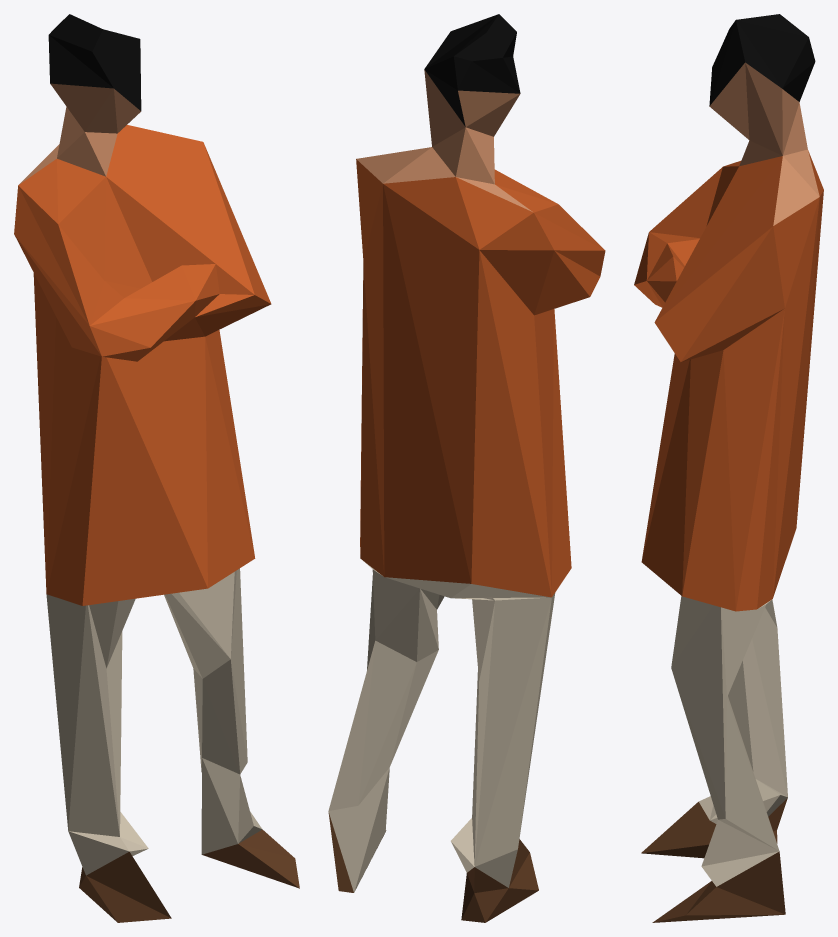
The model's file is walker-13.glb.
3 renders of one model, left to right at view 1: azimuth 30°, elevation 25°; view 2: azimuth 150°, elevation 25°; view 3: azimuth 270°, elevation 25°, orthographic. The views are drawn at different scales.
Parts seen in each view (by area): view 1: Woman03; view 2: Woman03; view 3: Woman03.
Boxes of the visible parts, left/top/right/bottom form: Woman03: left=14, top=14, right=299, bottom=922; Woman03: left=328, top=14, right=605, bottom=922; Woman03: left=634, top=14, right=823, bottom=922.
Bounding box in the file's own units: 0.441 × 1.55 × 0.3177.
